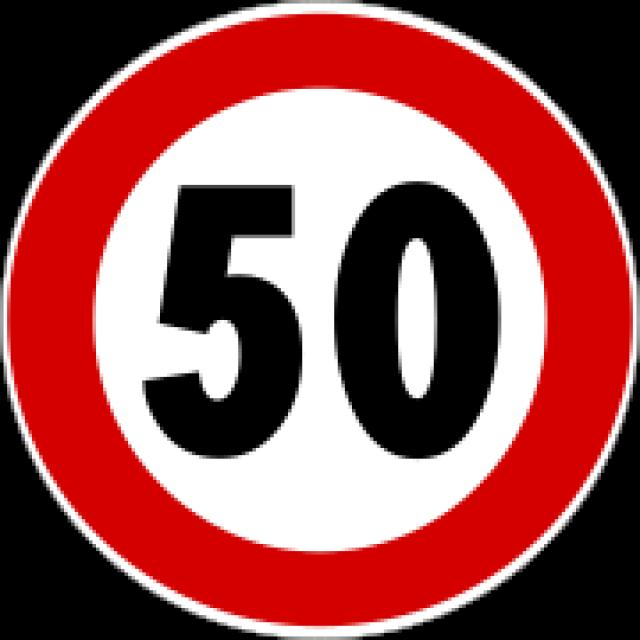Speed Limit -50-: (129, 168, 513, 470)
